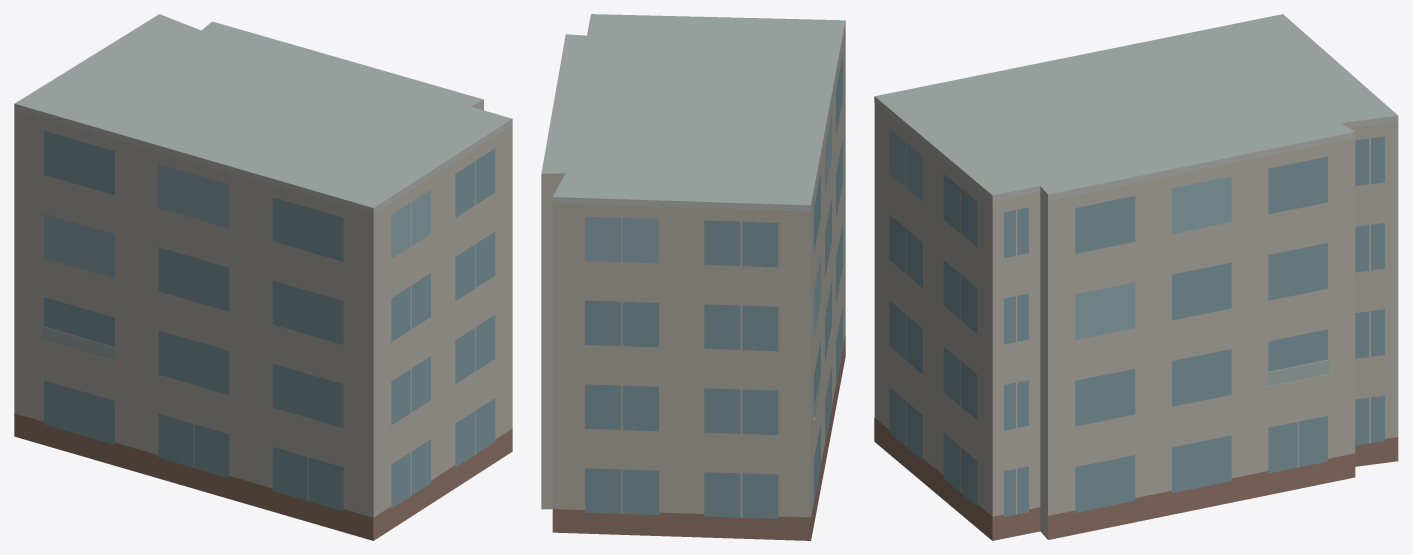
Rendered from survey-upis-32908632.glb.
3 views of the same model, side by side, from view 1: azimuth 30°, elevation 25°; view 2: azimuth 150°, elevation 25°; view 3: azimuth 270°, elevation 25° (orthographic). The views are drawn at different scales.
Visible parts, largest first — view 1: survey-upis-32908632.tmp; view 2: survey-upis-32908632.tmp; view 3: survey-upis-32908632.tmp.
Part boxes in pixels (left/top/right/bottom): survey-upis-32908632.tmp: left=14, top=14, right=512, bottom=540; survey-upis-32908632.tmp: left=541, top=14, right=845, bottom=540; survey-upis-32908632.tmp: left=874, top=14, right=1398, bottom=540.
Bounding box in the file's own units: 14.99 × 13.3 × 18.29.
